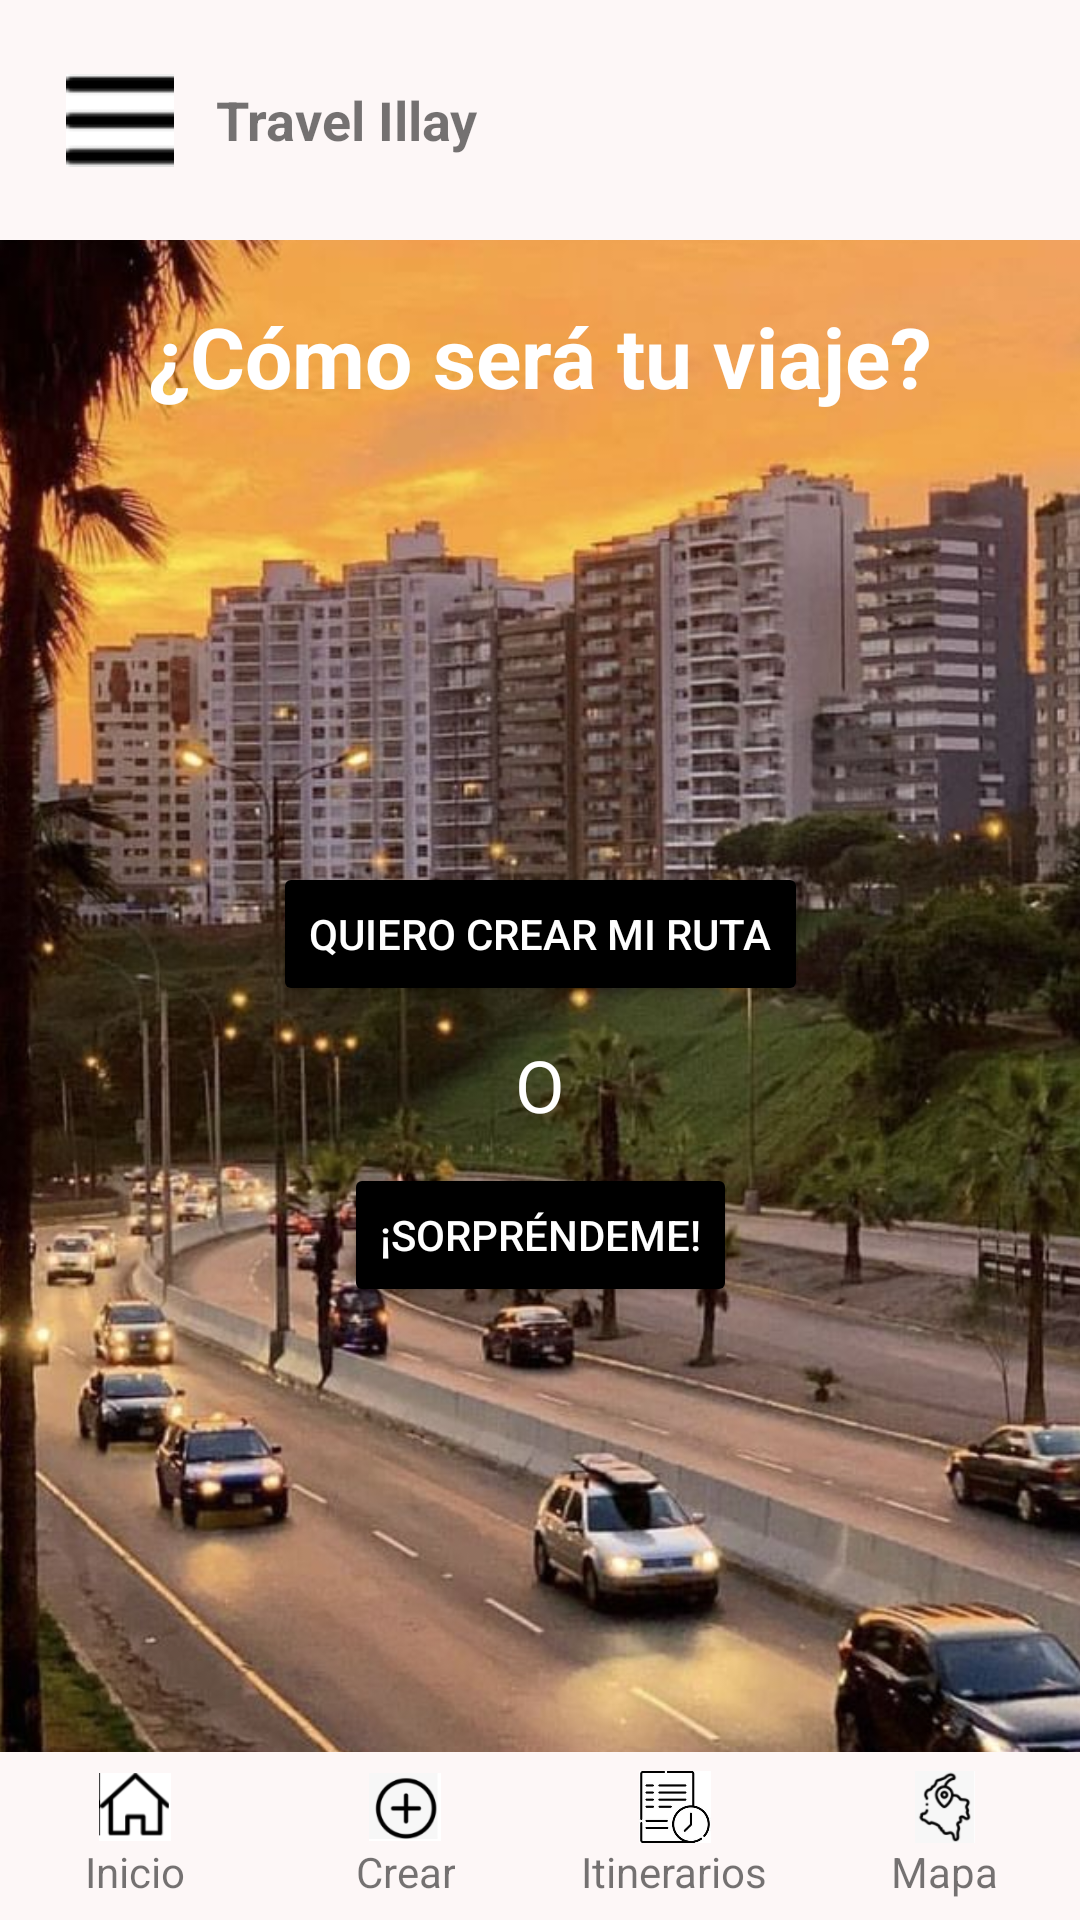

Icons on this 1080 x 1920 Android screen, each with its box as detection(x1, y1, x2, y2):
Menú principal: detection(66, 76, 174, 167)
